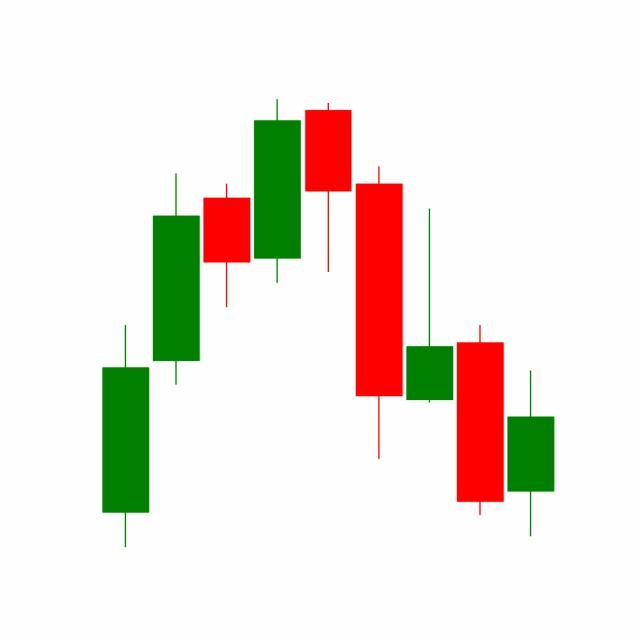Hikkake Pattern: (252, 99, 506, 521)
